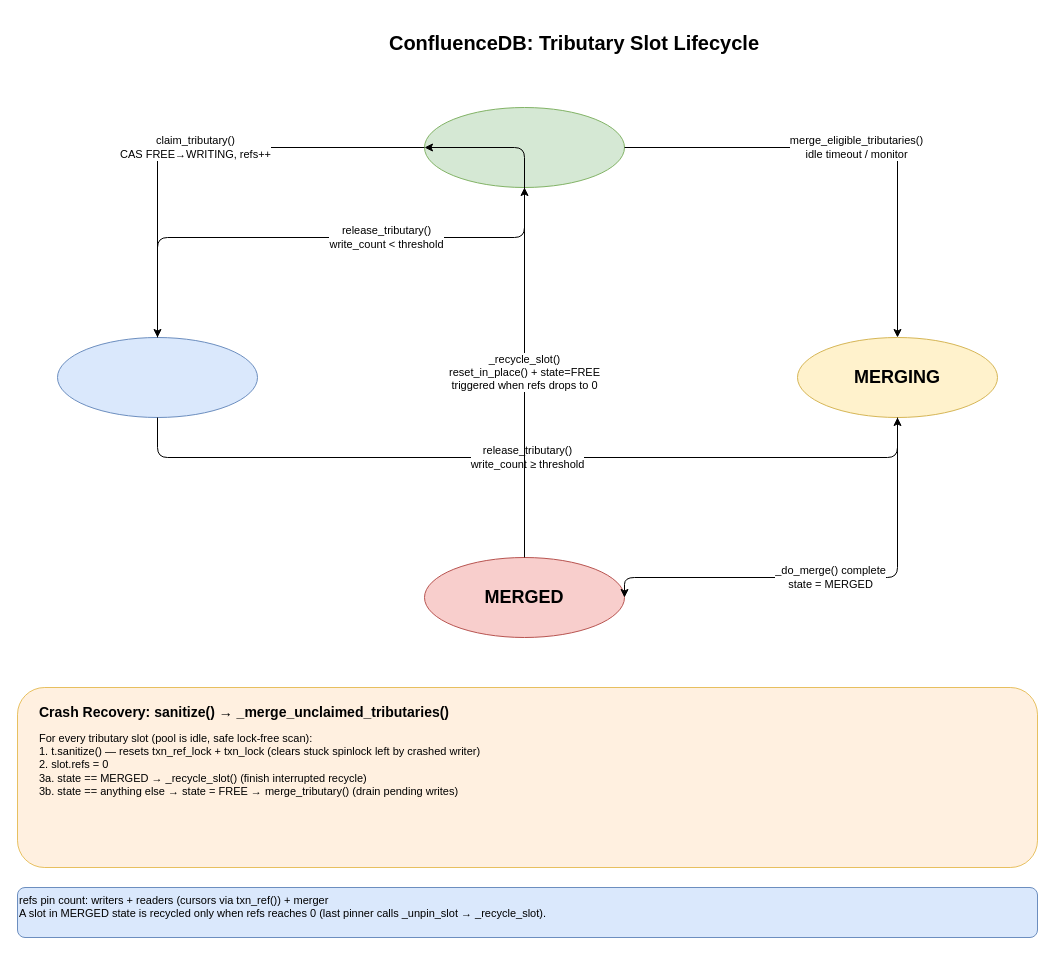
Image size: 1055x955. Some labels were removed from this diagram. Here are the shapes that lost their labels. From the top down, the box of each, then its label:
(424, 106, 624, 188): FREE
(56, 336, 258, 418): WRITING
